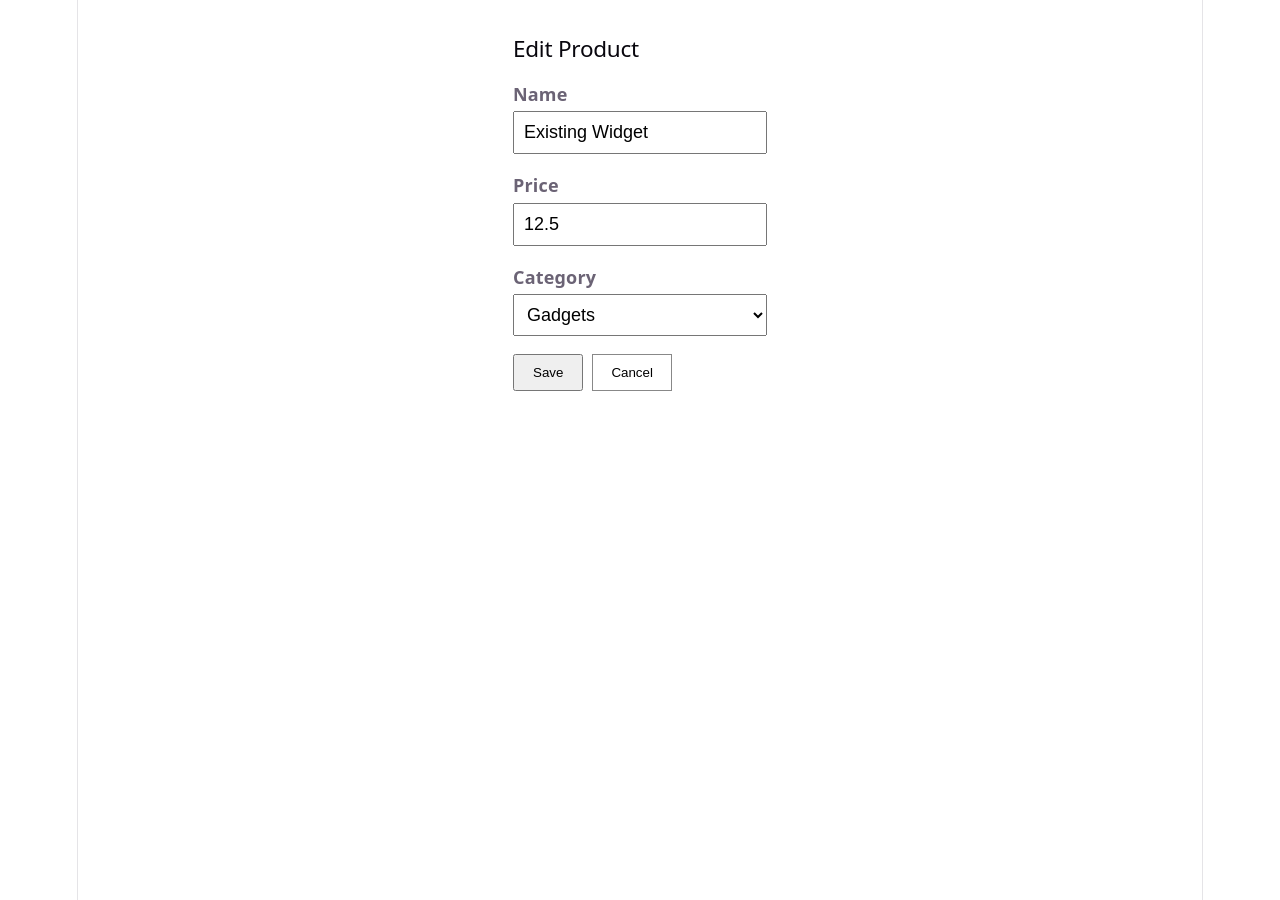
ProductForm (edit mode) › shows a loading state and disables inputs/Cancel while an edit submit is in flight
Expected: the dropdown labelled "Category" is enabled, [513, 294, 767, 336]
Click the button "Save": x=548, y=373 [513, 354, 583, 391]
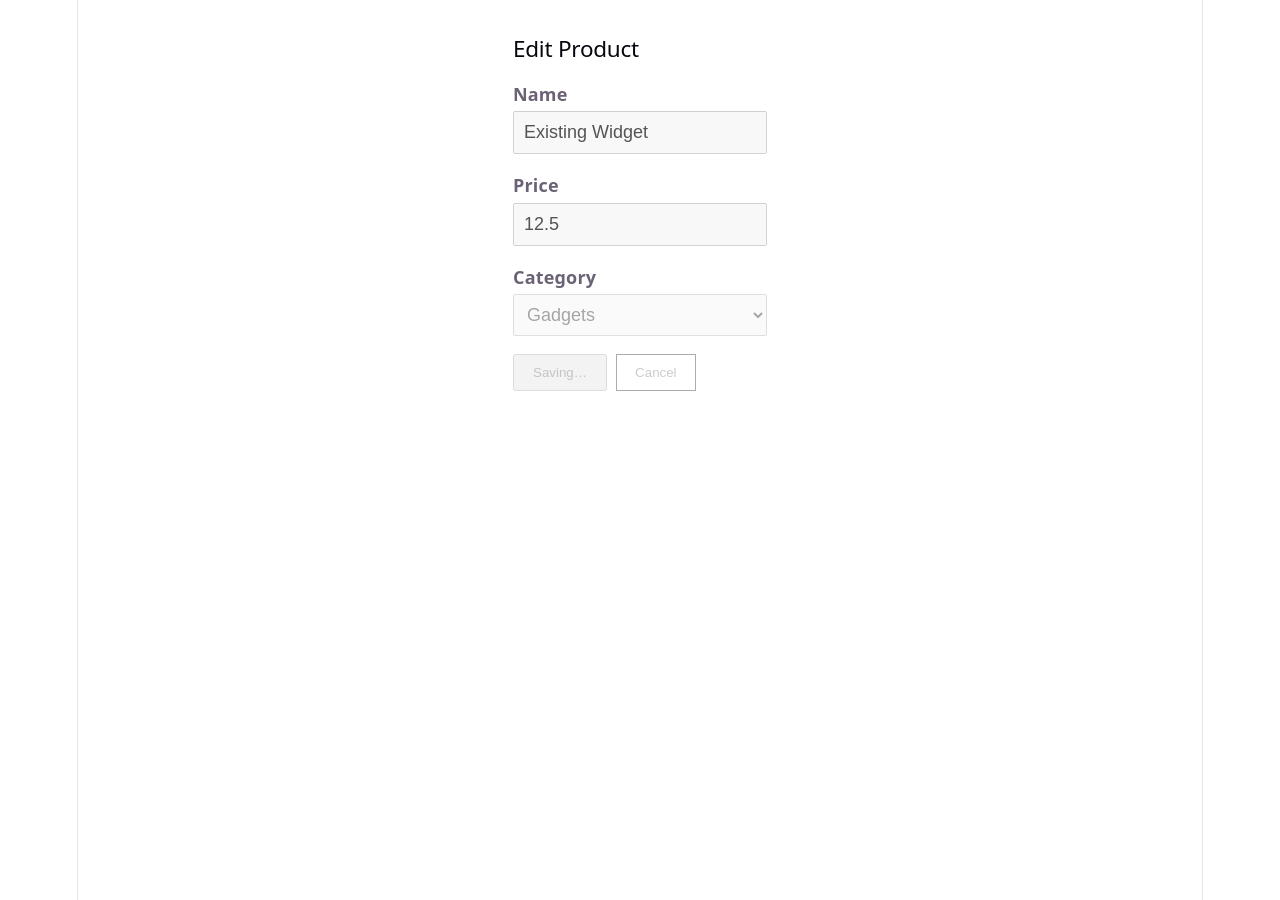
Now the button "Saving…" is disabled, box [513, 354, 607, 391]
Now the field labelled "Name" is disabled, box [513, 111, 767, 154]
Now the button "Cancel" is disabled, box [616, 354, 696, 391]
